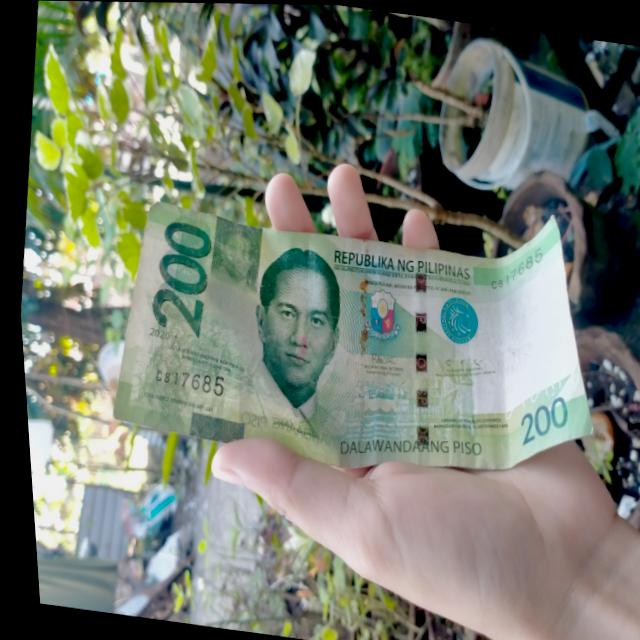concealed_value: (200, 218, 264, 293)
security_thread: (385, 238, 454, 464)
see_through_mark: (485, 349, 567, 431)
serial_number: (474, 228, 549, 301), (144, 360, 227, 402)
value: (138, 215, 218, 349)
